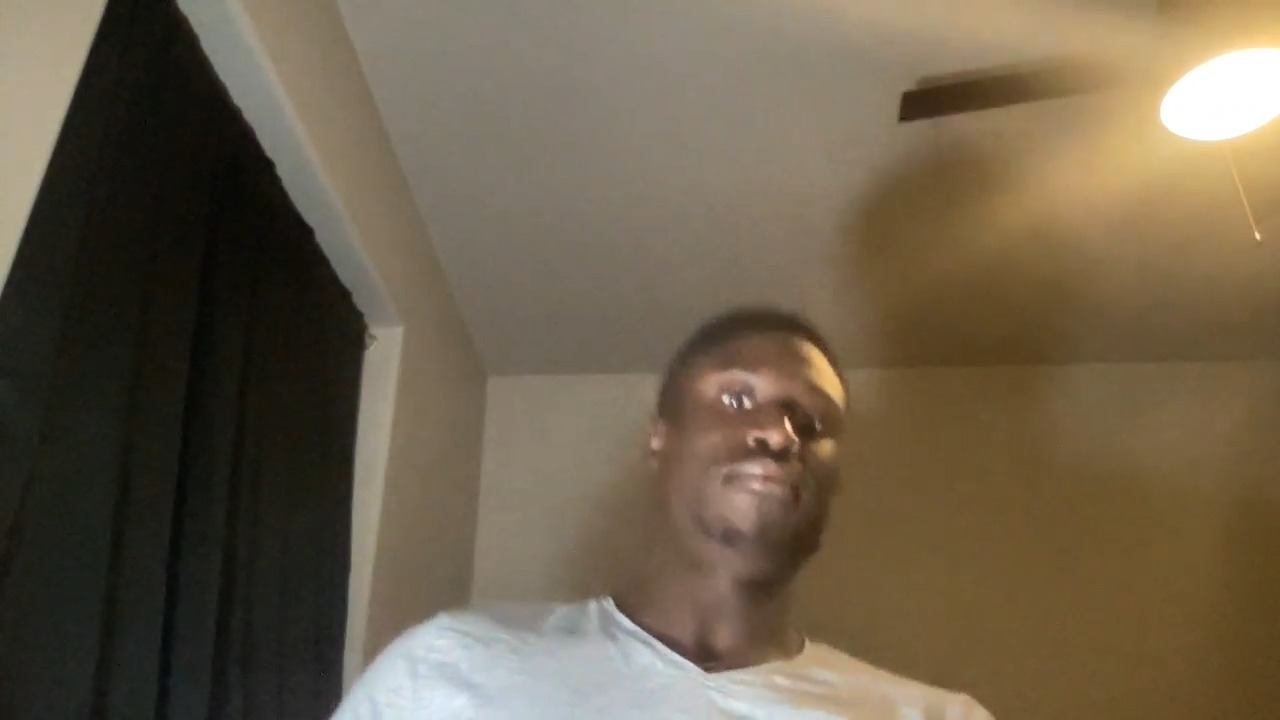face: (650, 311, 849, 564)
